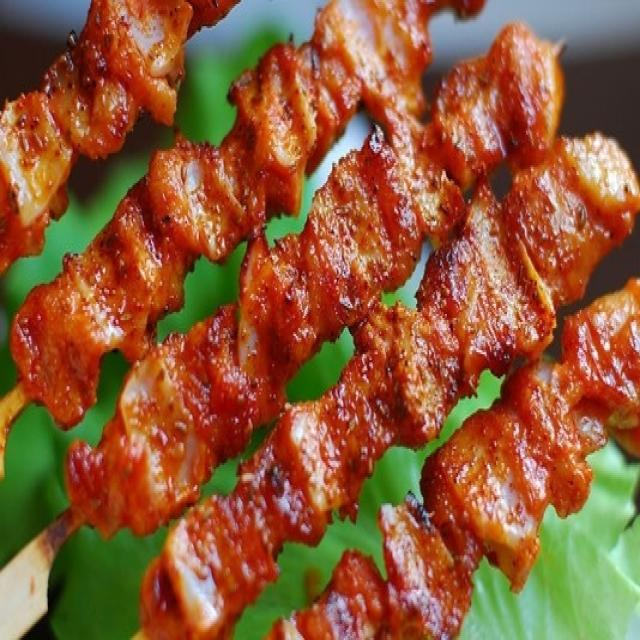烧串烤肉: (4, 18, 617, 628)
